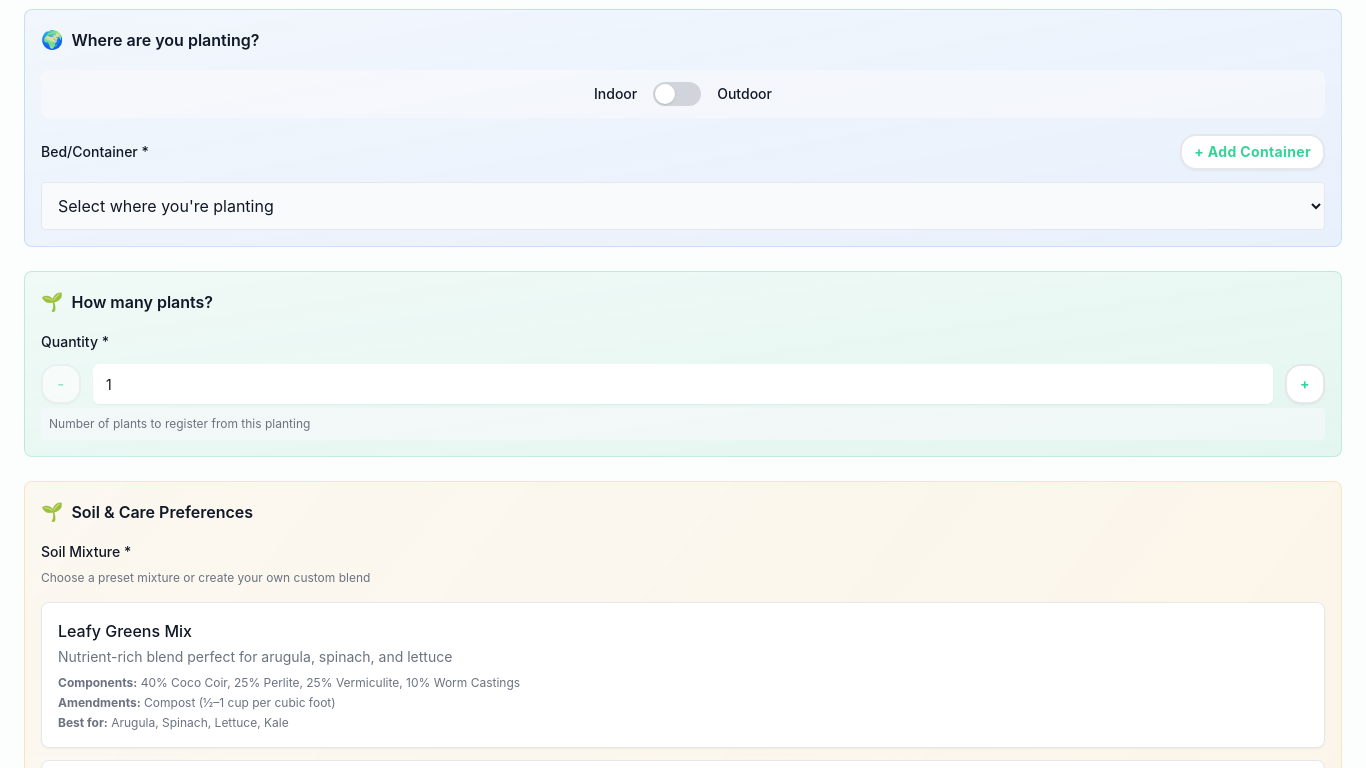
Test: PlantRegistrationForm › Quantity Management › allows increasing and decreasing quantity
(page scrolled)
Expected: the number field named "Plant quantity" holds "1", [93, 364, 1273, 404]
Expected: the button named "Decrease quantity" is disabled, [41, 364, 81, 404]
Click the button named "Increase quantity" at point(1305, 384), box [1285, 364, 1325, 404]
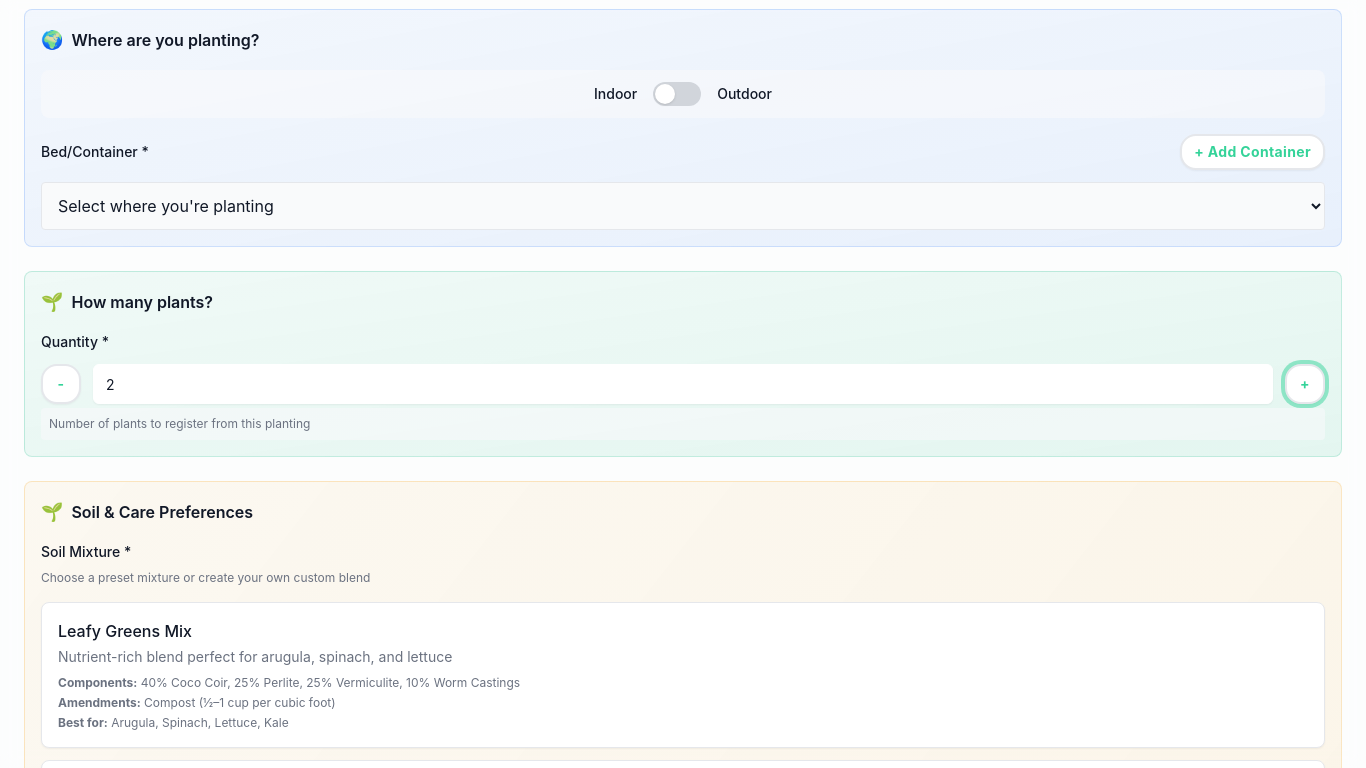
Now the number field named "Plant quantity" holds "2", box [93, 364, 1273, 404]
Click the button named "Decrease quantity" at point(61, 384), box [41, 364, 81, 404]
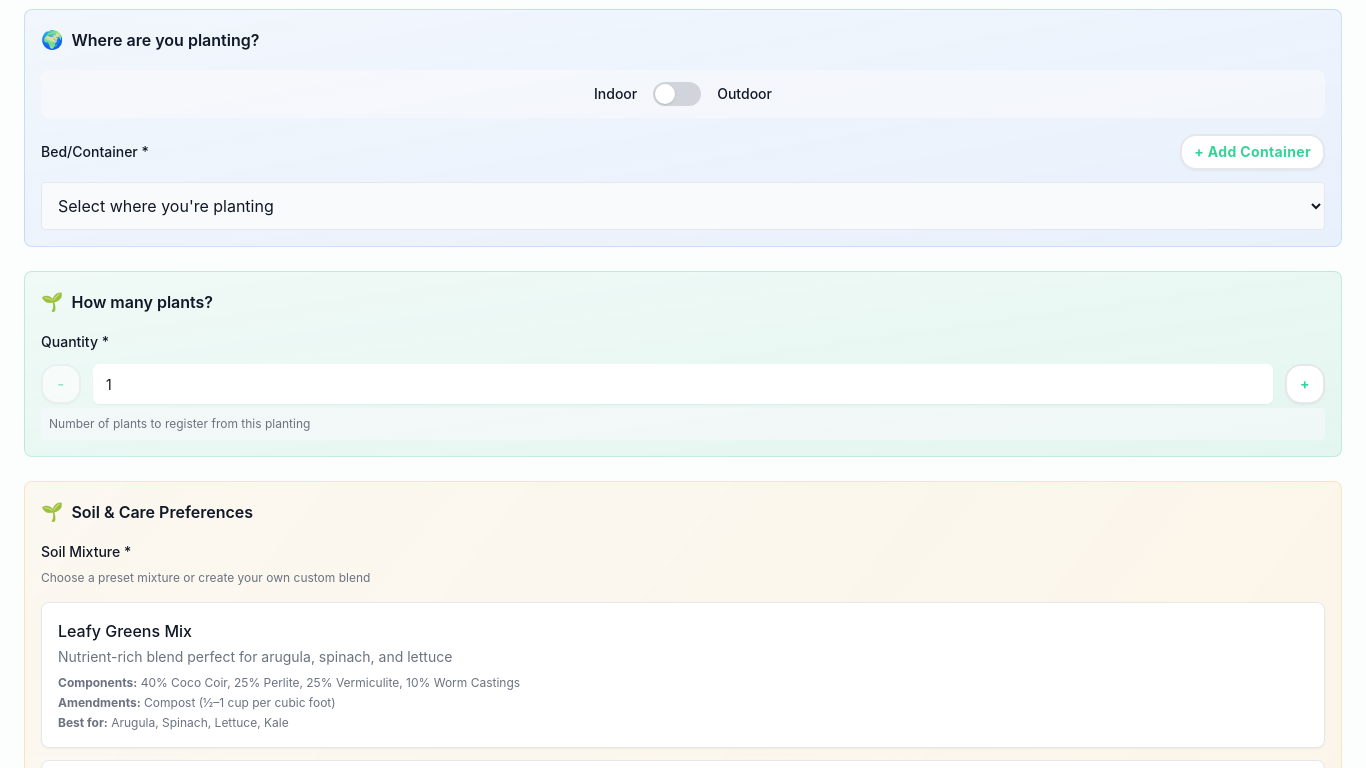
Now the number field named "Plant quantity" holds "1", box [93, 364, 1273, 404]
